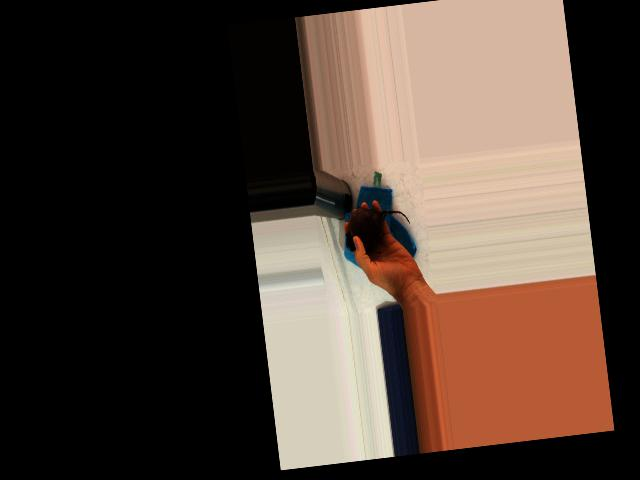beet: (342, 202, 412, 256)
